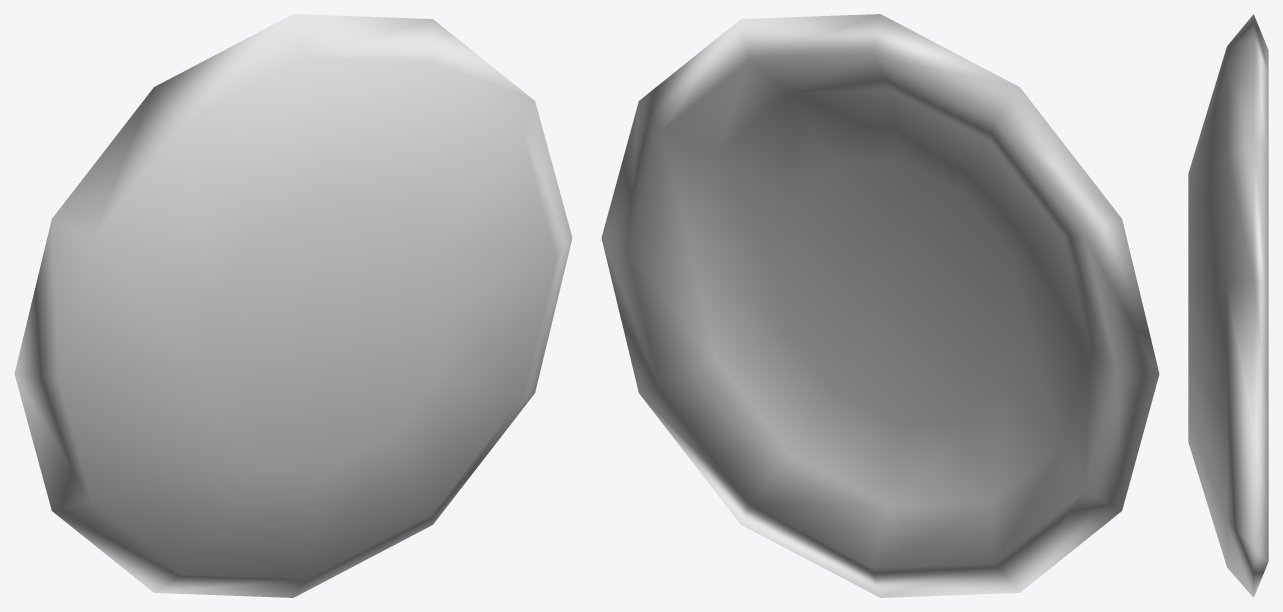
File: Plate.glb
The picture shows the model from 3 angles, left to right: view 1: azimuth 30°, elevation 25°; view 2: azimuth 150°, elevation 25°; view 3: azimuth 270°, elevation 25°; orthographic projection. The views are drawn at different scales.
Visible parts, largest first — view 1: Plate; view 2: Plate; view 3: Plate.
Part boxes in pixels (left/top/right/bottom): Plate: left=14, top=14, right=572, bottom=597; Plate: left=601, top=14, right=1159, bottom=597; Plate: left=1188, top=14, right=1268, bottom=597.
Size of the model in its own units: 0.3491 by 0.3491 by 0.0477.
Materials: 1 (1 with a texture image).
